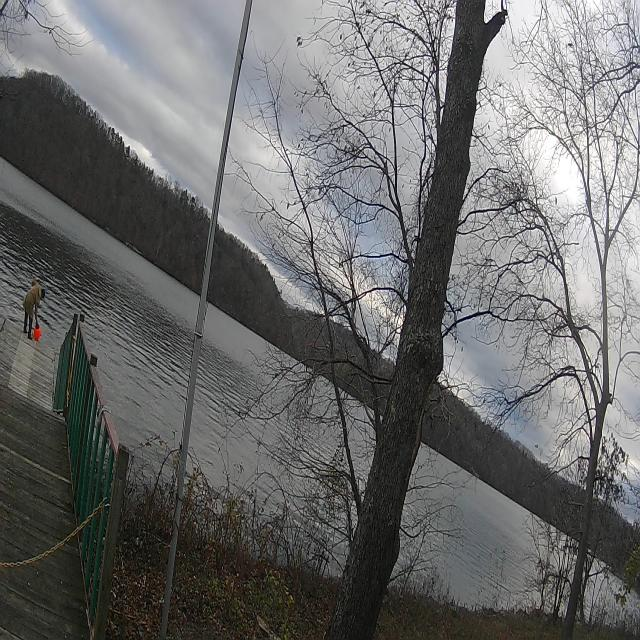Buoy: (32, 318, 44, 347)
